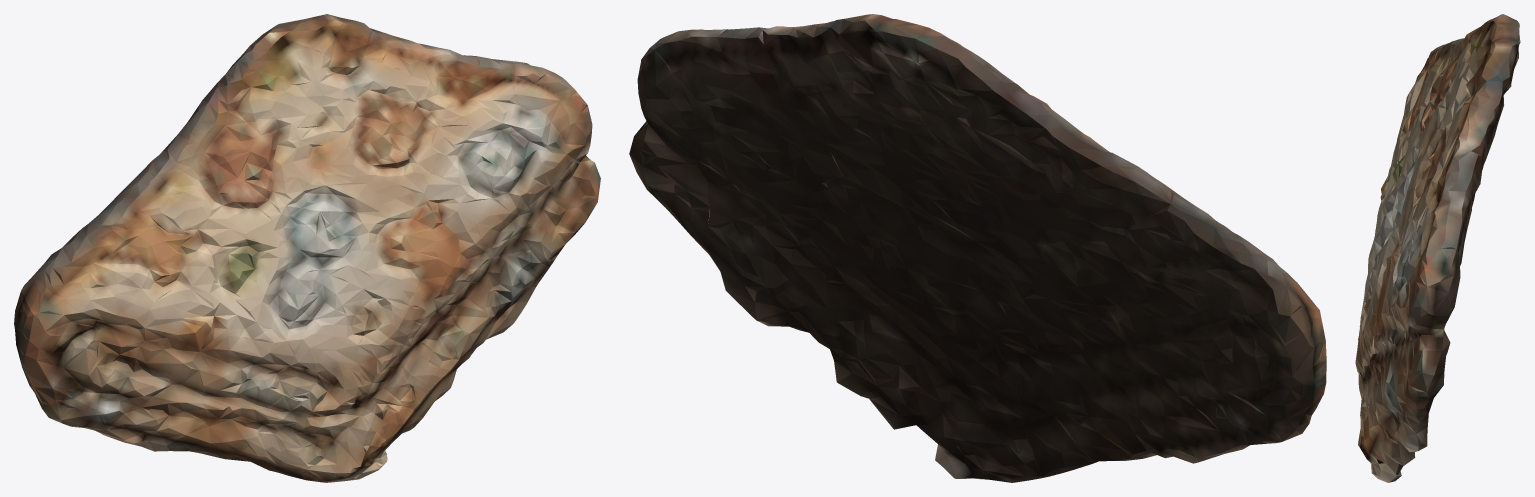
The model's file is daycare_blanket.glb.
The picture shows the model from 3 angles, left to right: view 1: azimuth 30°, elevation 25°; view 2: azimuth 150°, elevation 25°; view 3: azimuth 270°, elevation 25°; orthographic projection. The views are drawn at different scales.
Visible parts, largest first — view 1: geometry_0; view 2: geometry_0; view 3: geometry_0.
Boxes of the visible parts, x1=… form: geometry_0: x1=14, y1=14, x2=600, y2=482; geometry_0: x1=629, y1=14, x2=1326, y2=482; geometry_0: x1=1355, y1=14, x2=1520, y2=482.
Bounding box in the file's own units: 0.2592 × 0.18 × 0.06.
Materials: 1 (1 with a texture image).
